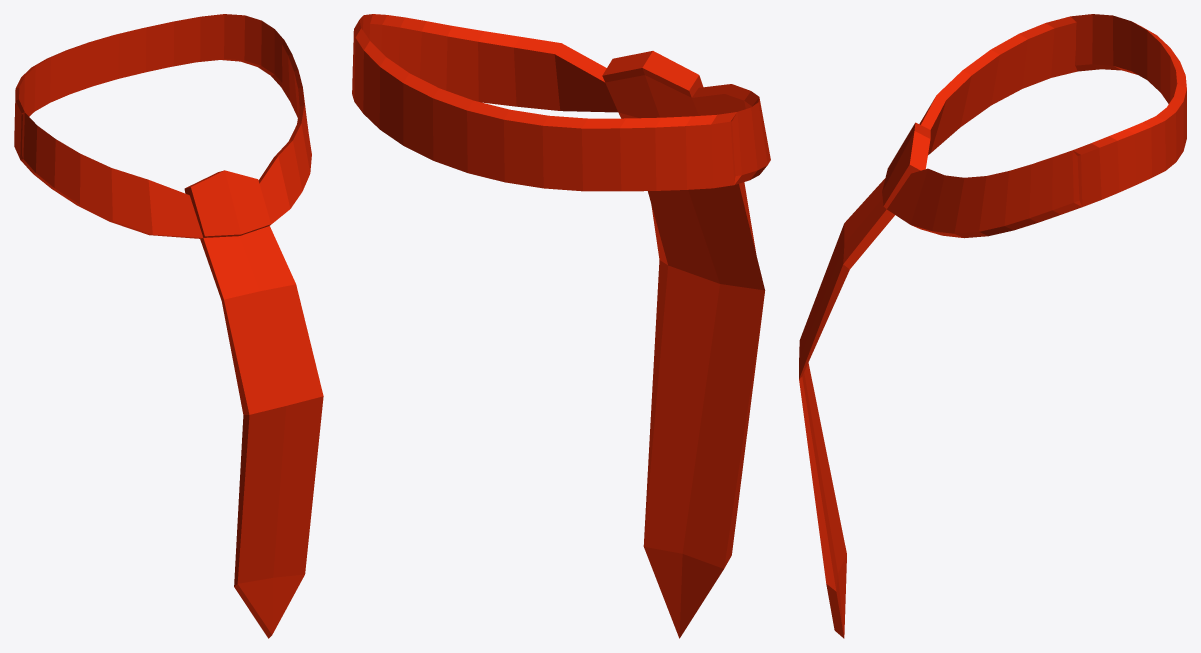
Rendered from NeckTieNew.fbx.
The picture shows the model from 3 angles, left to right: view 1: azimuth 30°, elevation 25°; view 2: azimuth 150°, elevation 25°; view 3: azimuth 270°, elevation 25°; orthographic projection. The views are drawn at different scales.
Parts seen in each view (by area): view 1: Cylinder.007; view 2: Cylinder.007; view 3: Cylinder.007.
Part boxes in pixels (<box>): Cylinder.007: <box>14,14,323,638</box>; Cylinder.007: <box>352,14,770,638</box>; Cylinder.007: <box>799,14,1186,638</box>.
Bounding box in the file's own units: 91.36 × 167 × 104.
